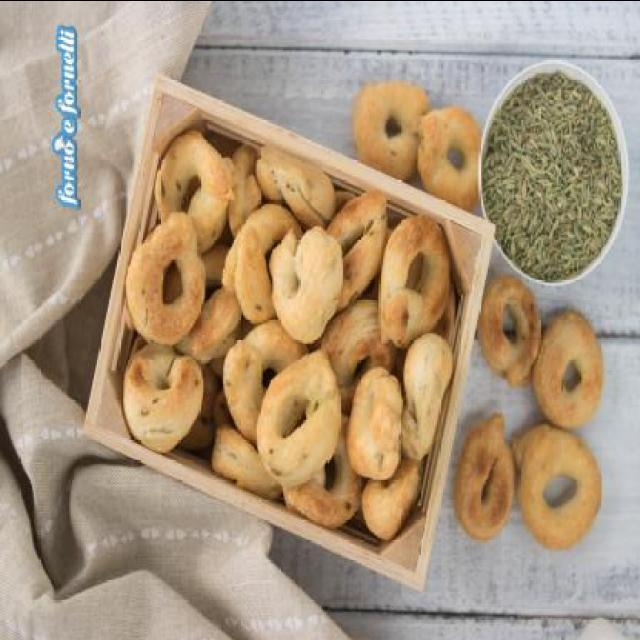Taralli: (117, 82, 485, 536), (459, 276, 616, 552)
